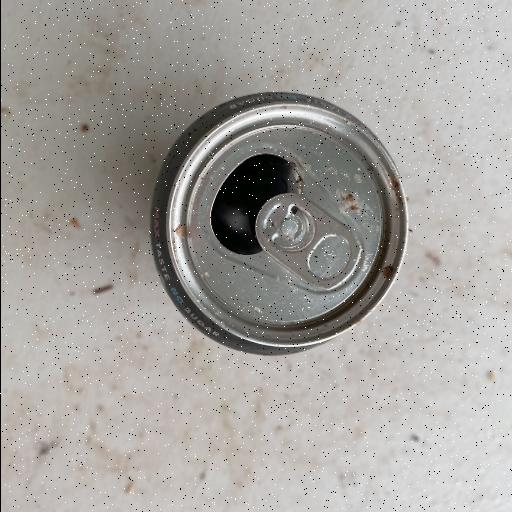Metal: (146, 90, 412, 358)
